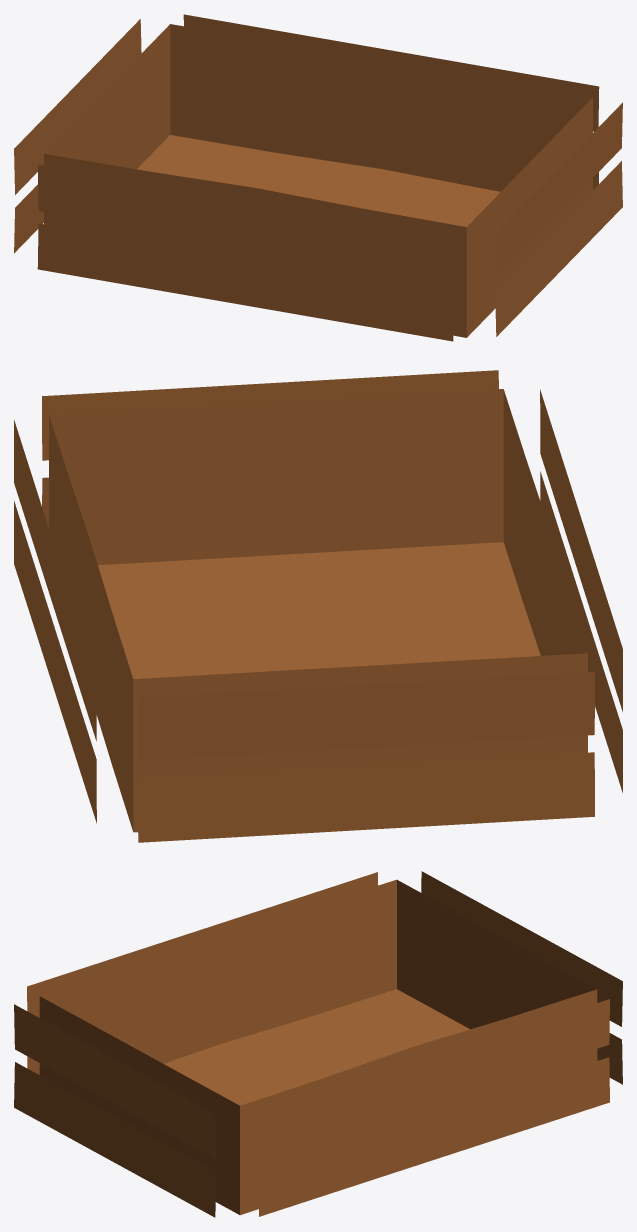
The model's file is n2_chest_bottom_light_brown_0_lev2.002.glb.
The picture shows the model from 3 angles, top to bottom: view 1: azimuth 30°, elevation 25°; view 2: azimuth 150°, elevation 25°; view 3: azimuth 270°, elevation 25°; orthographic projection. The views are drawn at different scales.
Parts seen in each view (by area): view 1: n2_chest_bottom_light_brown_0_lev2.002; view 2: n2_chest_bottom_light_brown_0_lev2.002; view 3: n2_chest_bottom_light_brown_0_lev2.002.
Part boxes in pixels (<box>): n2_chest_bottom_light_brown_0_lev2.002: <box>14,14,622,341</box>; n2_chest_bottom_light_brown_0_lev2.002: <box>14,370,622,842</box>; n2_chest_bottom_light_brown_0_lev2.002: <box>14,871,622,1217</box>.
Bounding box in the file's own units: 1.82 × 0.3906 × 1.92.
